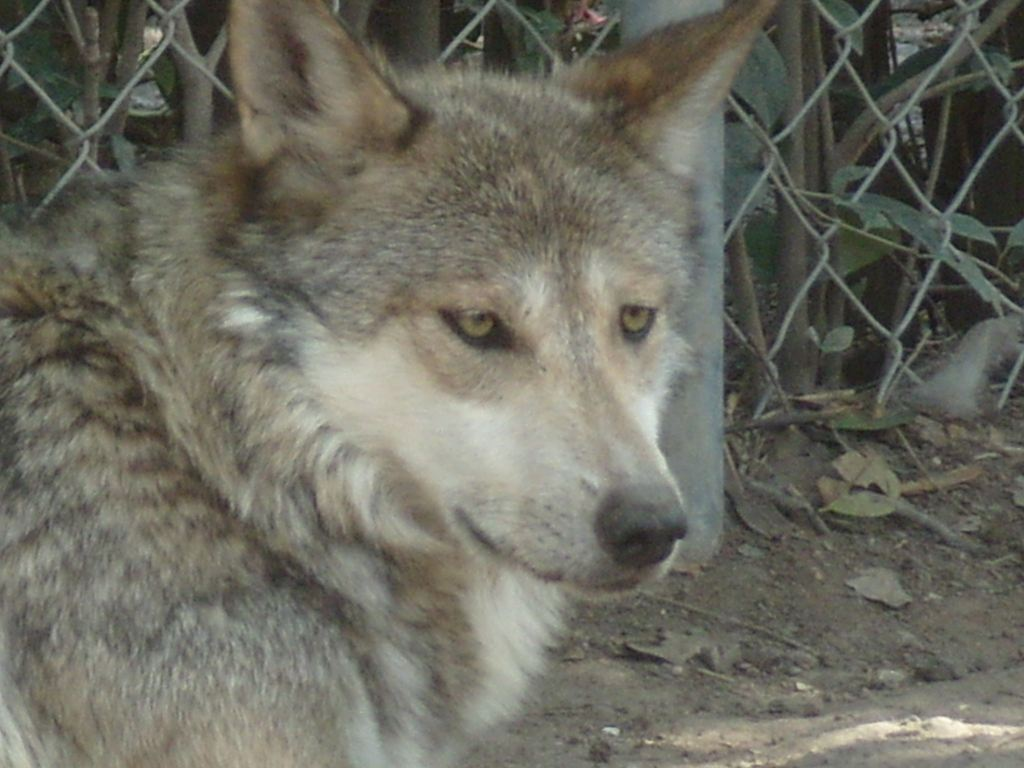Lobo: (126, 22, 787, 646)
